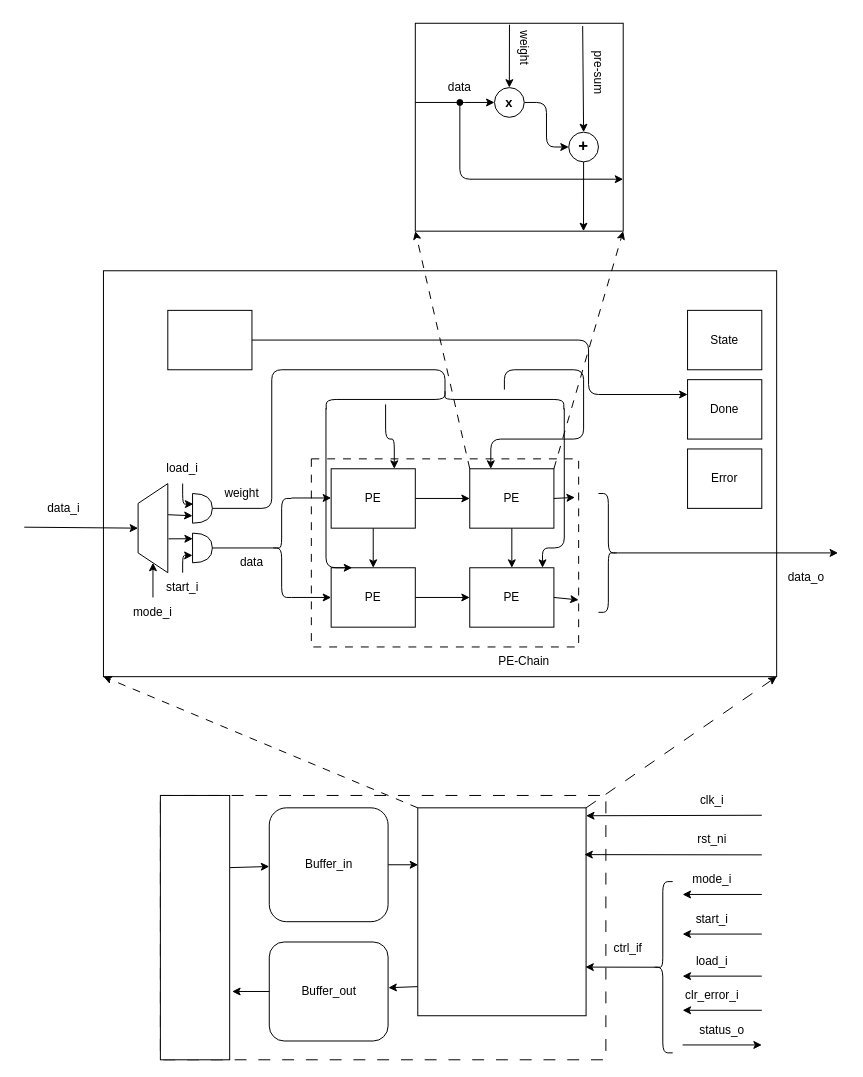
Image size: 863x1077. Some labels were removed from this diagram. The centre of each missing label's shape, as x and y in pixels:
Counter: the point at 209,339
Slave AXI4-Lite: the point at 194,927
Systolic Array: the point at 501,911
